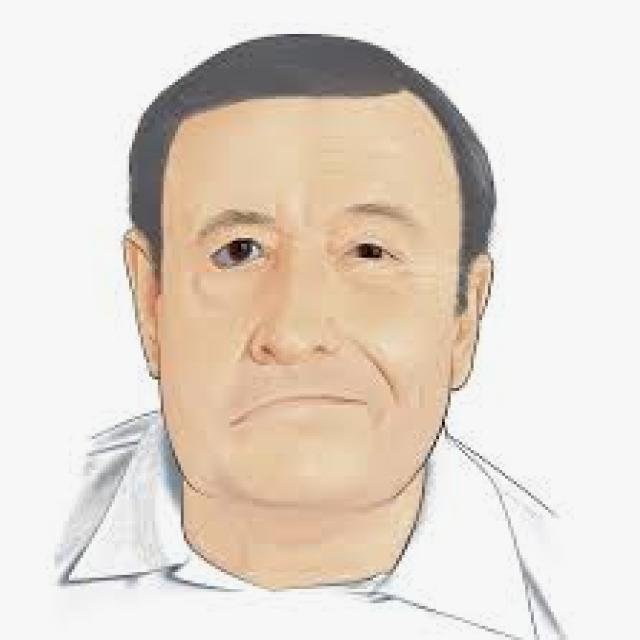stroke_face: (146, 72, 458, 498)
